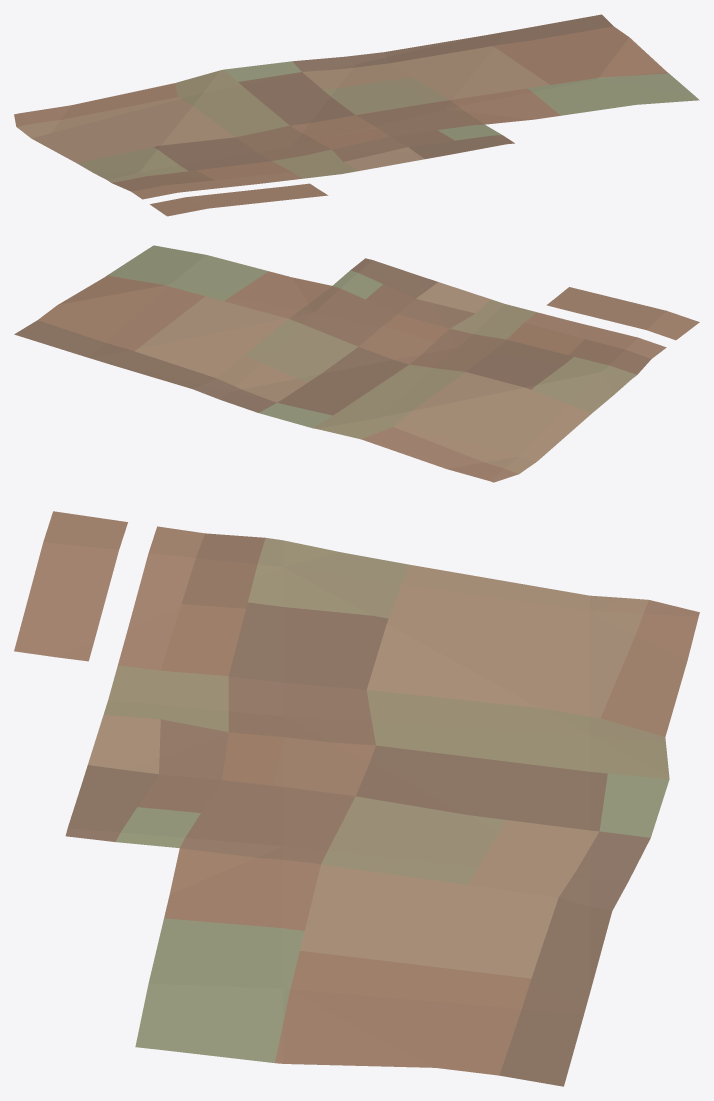
Rendered from farm_-32_-34_soil.glb.
3 renders of one model, top to bottom at view 1: azimuth 30°, elevation 25°; view 2: azimuth 150°, elevation 25°; view 3: azimuth 270°, elevation 25°, orthographic. The views are drawn at different scales.
Parts seen in each view (by area): view 1: geometry_0; view 2: geometry_0; view 3: geometry_0.
Part boxes in pixels (box(x1,y1,x2,y2)): geometry_0: box(14, 14, 699, 216); geometry_0: box(14, 245, 699, 482); geometry_0: box(14, 511, 699, 1086).
Size of the model in its own units: 304 by 24.07 by 179.
